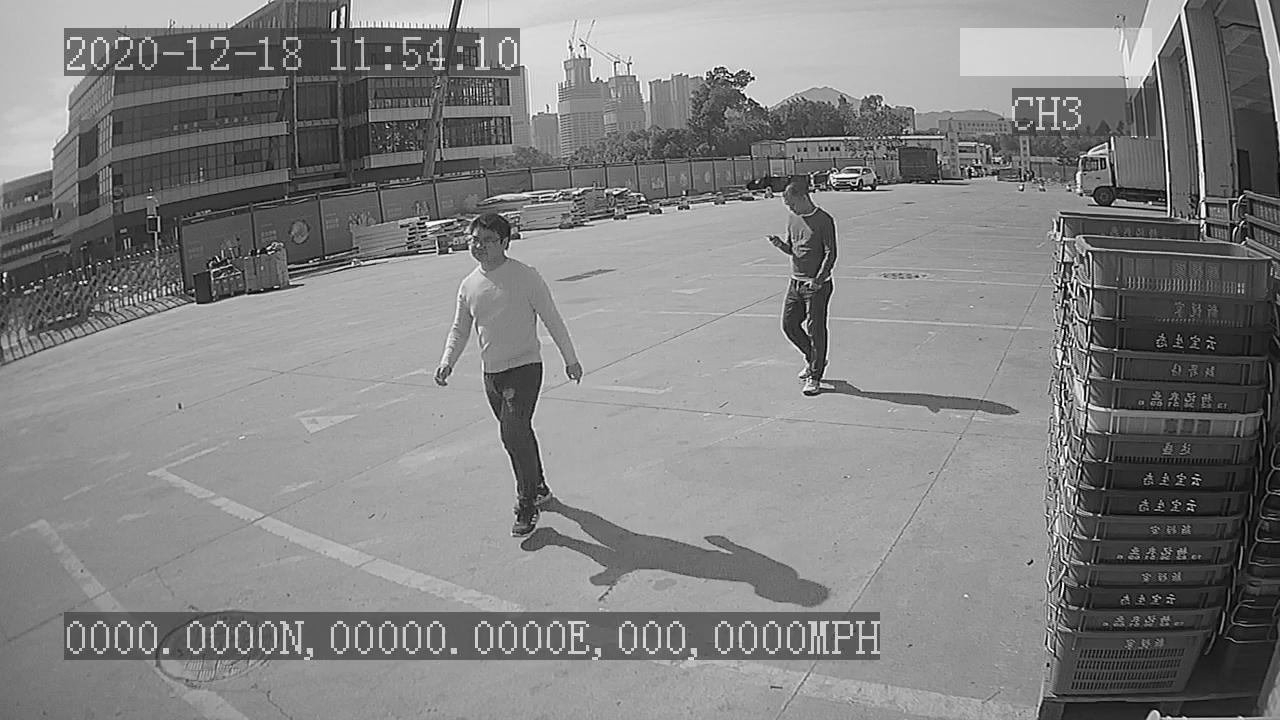person: (427, 210, 592, 551), (763, 170, 847, 404)
